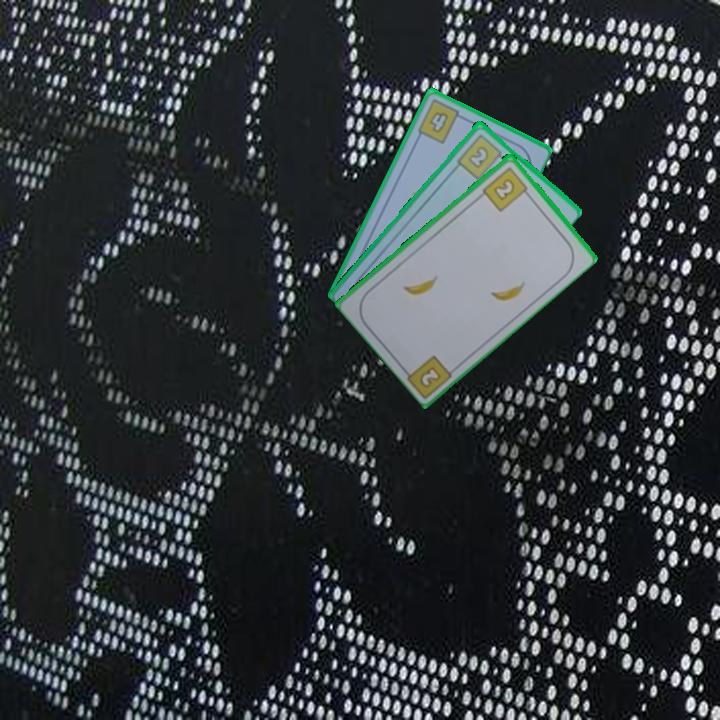2b: (453, 130, 508, 182), (479, 163, 533, 214), (418, 365, 442, 389)
4b: (413, 95, 468, 147)
